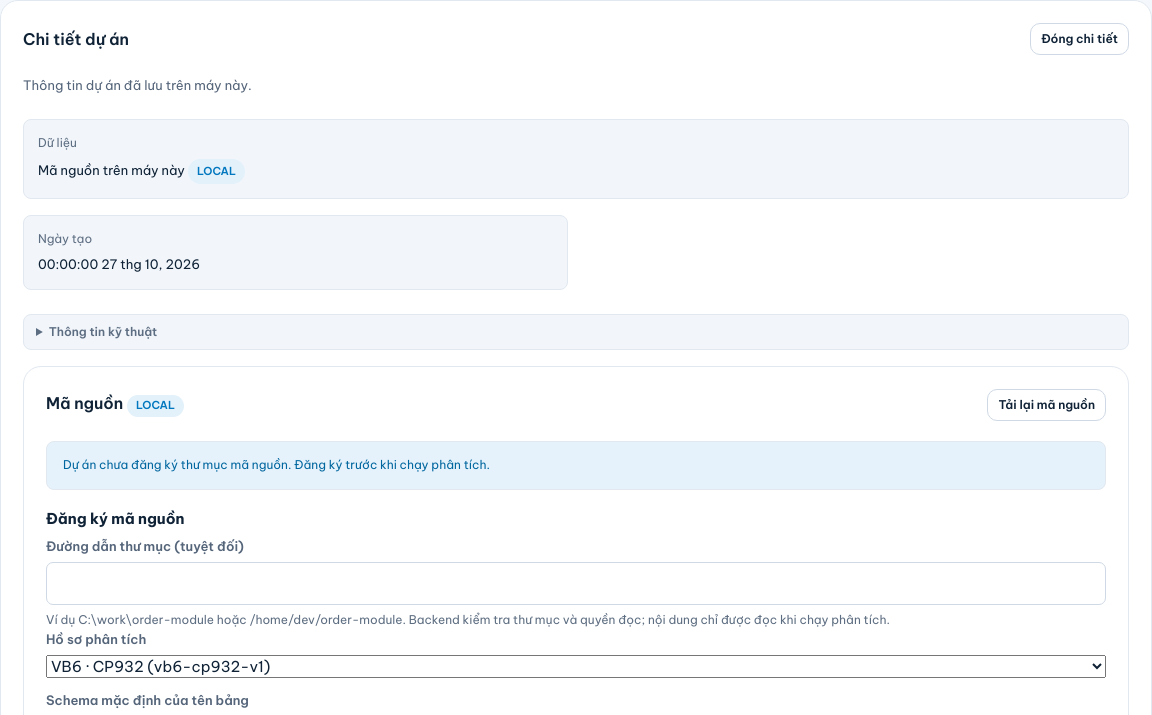
Test: Source registration form (F01) › F01-AC02 keeps the input and shows a safe message for SOURCE_FORBIDDEN
Type "D:\\work\\order-module" into the field labelled "Đường dẫn thư mục (tuyệt đối)".
click(576, 583); type("D:\\work\\order-module")  # box [46,562,1106,605]
(page scrolled)
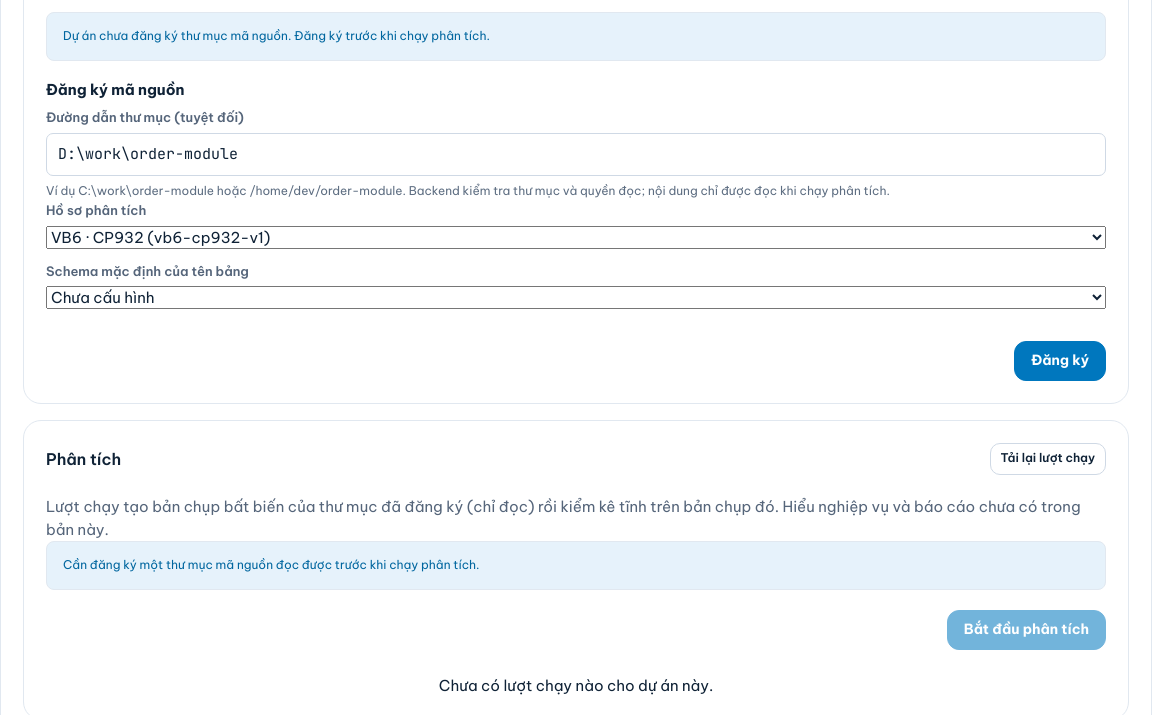
Click the button "Đăng ký".
click(1060, 361)  # box [1014,341,1106,381]
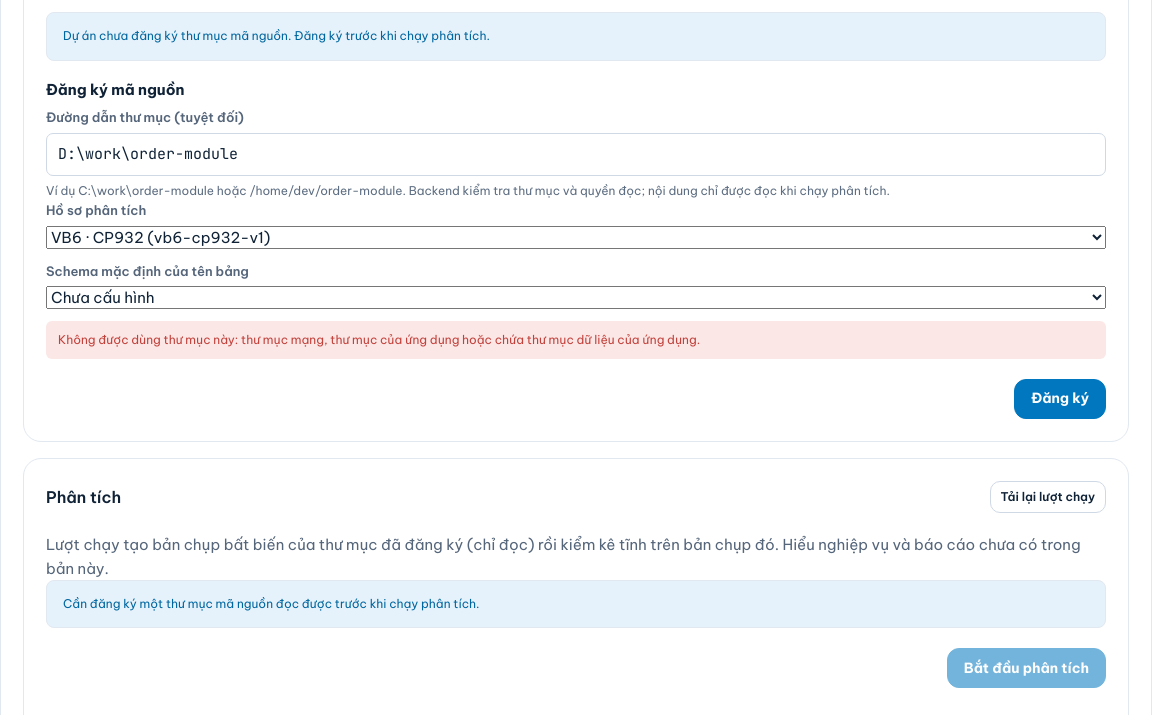
Expected: the button "Bắt đầu phân tích" is disabled, [947,648,1106,688]
Now the text "Không được dùng thư mục này" is shown, box [58,332,700,347]
